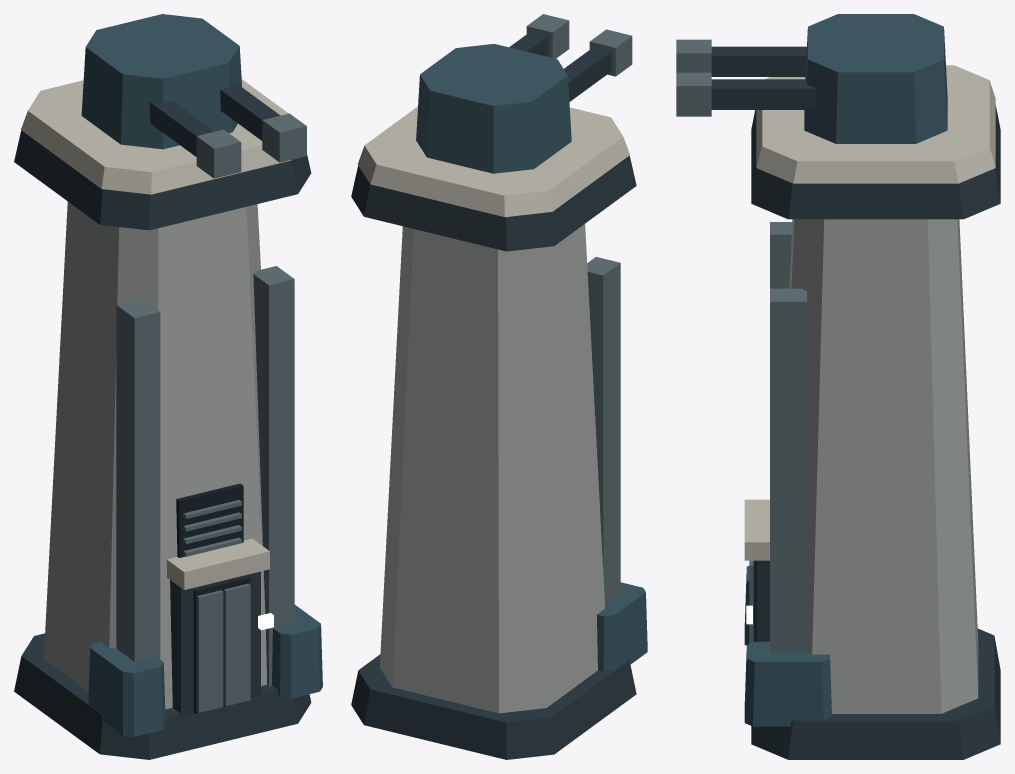
File: outpost_t3.glb
3 views of the same model, side by side, from view 1: azimuth 30°, elevation 25°; view 2: azimuth 150°, elevation 25°; view 3: azimuth 270°, elevation 25° (orthographic). The views are drawn at different scales.
Parts seen in each view (by area): view 1: body, part_turret; view 2: body, part_turret; view 3: body, part_turret.
Boxes of the visible parts, x1,y1,x2,y2 form: body: [14, 79, 322, 759]; part_turret: [81, 14, 306, 178]; body: [351, 106, 647, 759]; part_turret: [416, 14, 632, 173]; body: [744, 65, 1000, 759]; part_turret: [676, 14, 947, 143].
Bounding box in the file's own units: 1.48 × 4.35 × 1.93.
